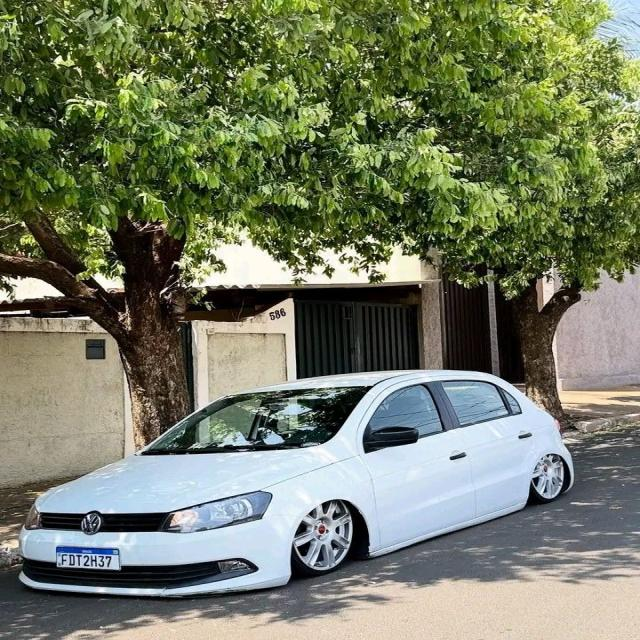Placas: (53, 548, 122, 569)
